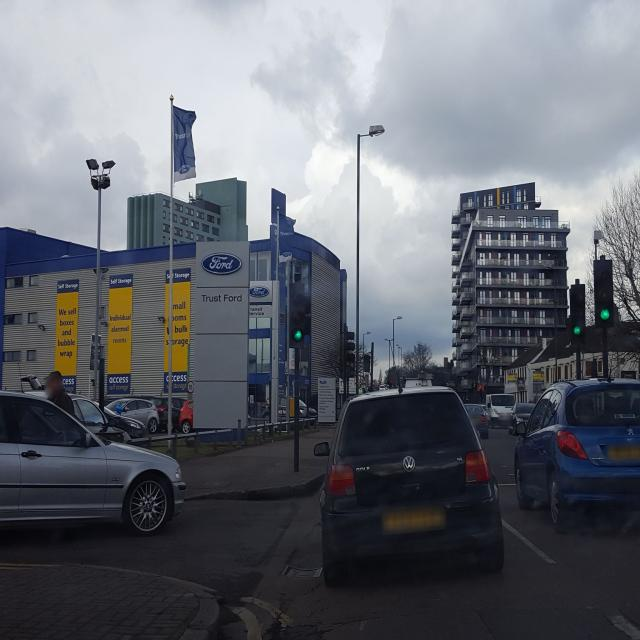car: (319, 385, 504, 585), (0, 381, 188, 544), (513, 375, 640, 530), (105, 398, 160, 432), (150, 396, 183, 431), (486, 392, 516, 428), (508, 402, 536, 436), (464, 403, 489, 439)
